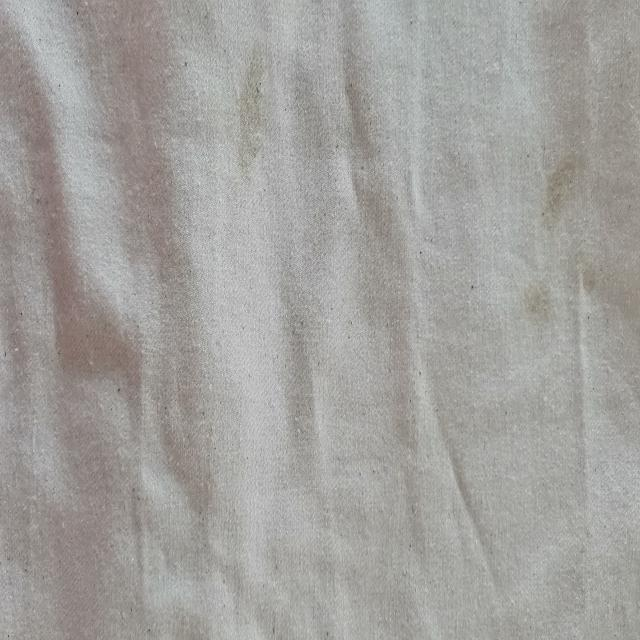taaaches: (219, 32, 280, 212), (534, 144, 586, 228), (524, 270, 554, 323), (582, 264, 600, 304)
